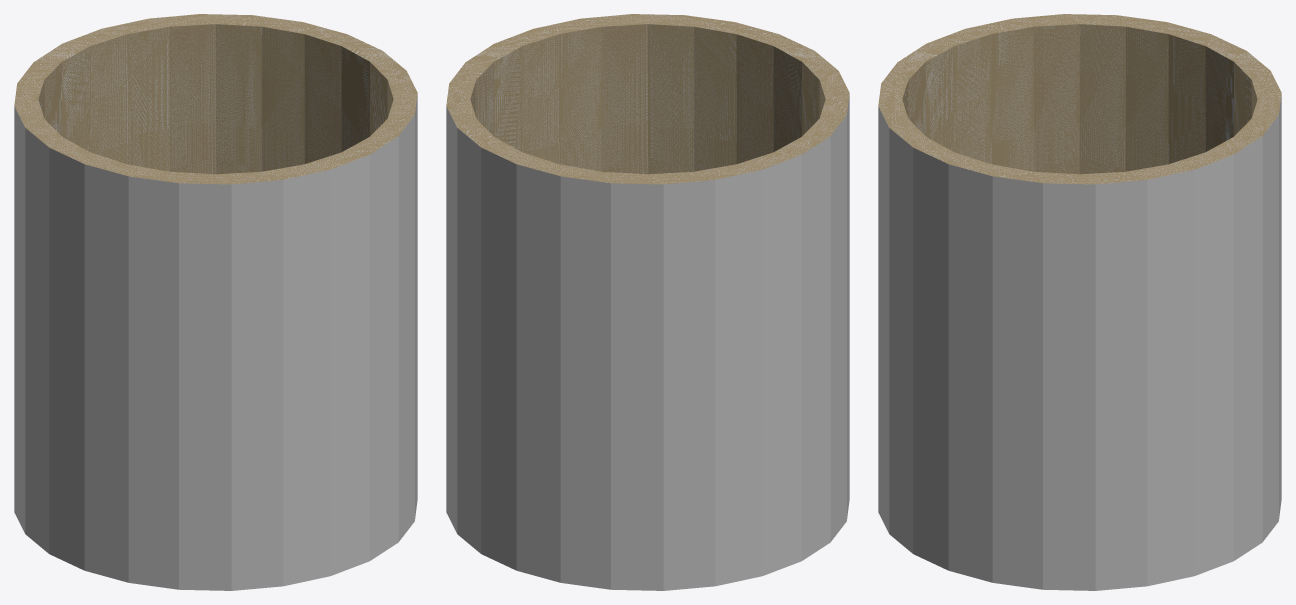
The picture shows the model from 3 angles, left to right: view 1: azimuth 30°, elevation 25°; view 2: azimuth 150°, elevation 25°; view 3: azimuth 270°, elevation 25°; orthographic projection.
Parts seen in each view (by area): view 1: mesh1_mesh1-geometry; view 2: mesh1_mesh1-geometry; view 3: mesh1_mesh1-geometry.
Boxes of the visible parts, x1,y1,x2,y2 form: mesh1_mesh1-geometry: (14,14,417,590); mesh1_mesh1-geometry: (446,14,849,590); mesh1_mesh1-geometry: (878,14,1281,590).
Bounding box in the file's own units: 0.5558 × 0.6181 × 0.5558.
